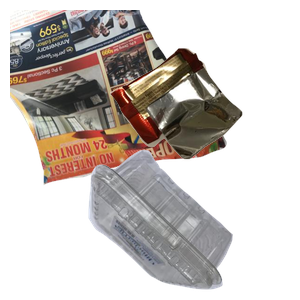glass: (102, 181, 246, 300)
paper: (10, 10, 230, 188)
plastic: (86, 147, 300, 300)
trash: (107, 46, 300, 198)
